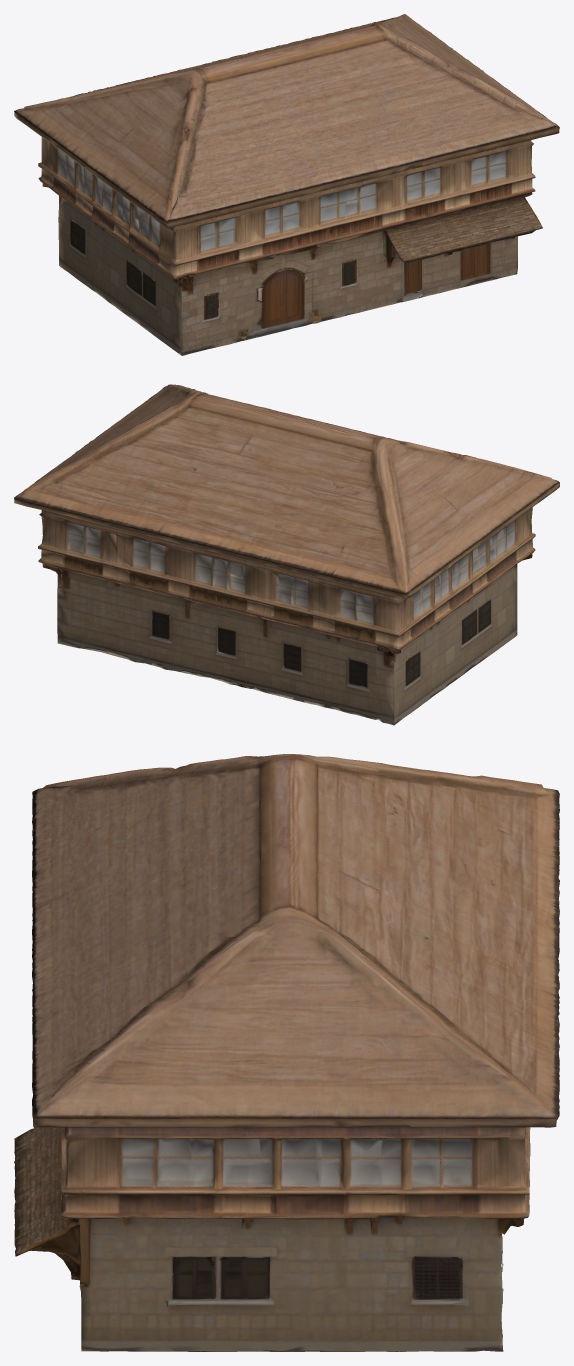
File: Meshy_AI_Philippines_House_8_0502182246_texture.fbx
3 renders of one model, top to bottom at view 1: azimuth 30°, elevation 25°; view 2: azimuth 150°, elevation 25°; view 3: azimuth 270°, elevation 25°, orthographic. The views are drawn at different scales.
Parts seen in each view (by area): view 1: Mesh_0; view 2: Mesh_0; view 3: Mesh_0.
Boxes of the visible parts, left/top/right/bottom form: Mesh_0: left=14, top=14, right=559, bottom=355; Mesh_0: left=14, top=384, right=559, bottom=725; Mesh_0: left=14, top=754, right=559, bottom=1351.
Size of the model in its own units: 191 by 103 by 134.
1 material, 1 textured.
